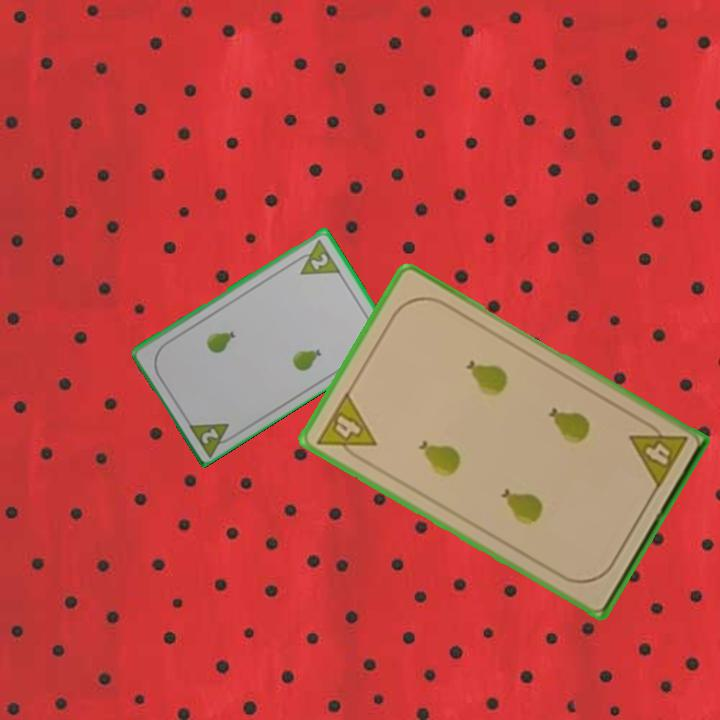2p: (290, 235, 343, 278), (198, 424, 222, 447)
4p: (313, 388, 379, 467), (625, 415, 690, 492)
